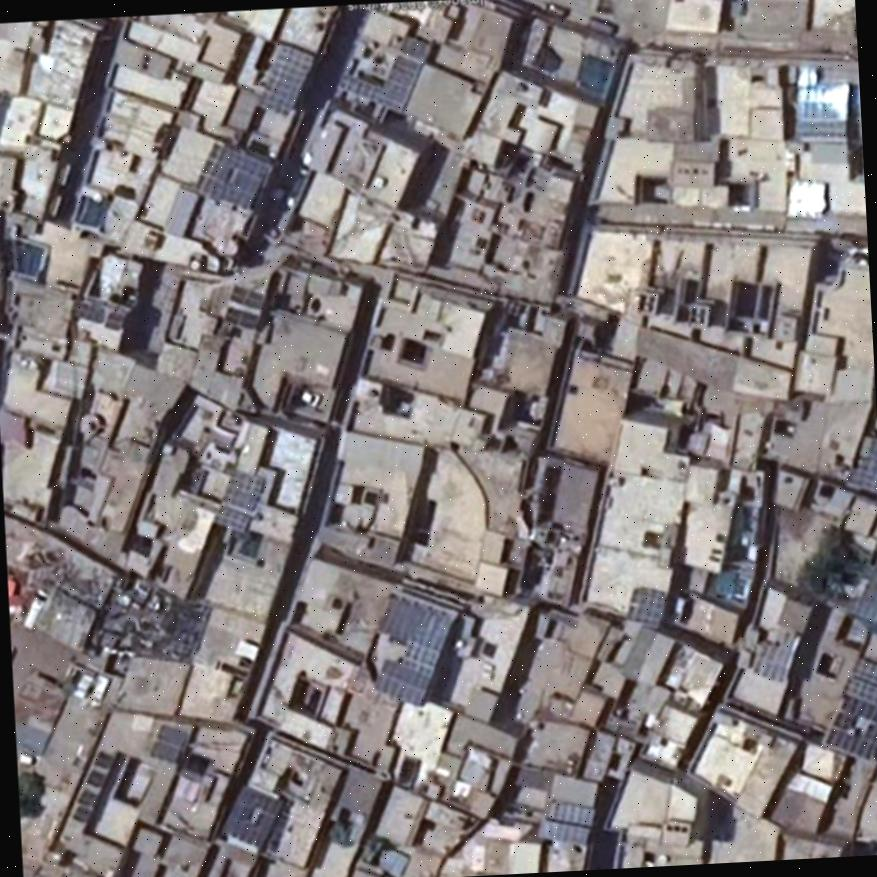Solarpanel: (362, 595, 453, 708), (810, 656, 877, 766), (336, 39, 417, 110), (198, 144, 268, 207), (256, 45, 313, 118), (218, 786, 285, 848), (211, 467, 263, 531), (752, 626, 800, 682), (537, 802, 596, 843), (793, 83, 850, 119), (845, 436, 877, 493), (628, 591, 666, 628), (151, 725, 187, 764)
